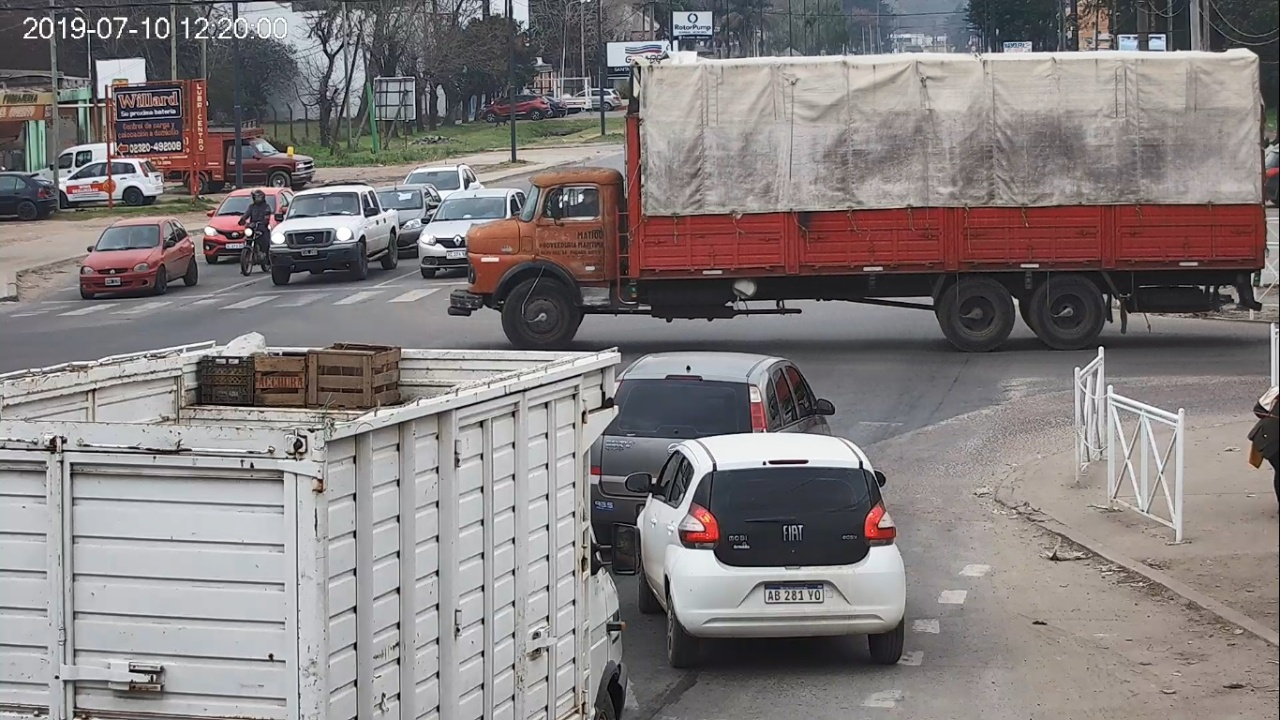car: (627, 433, 907, 665)
front car: (80, 216, 198, 298)
truck: (1, 348, 640, 719)
